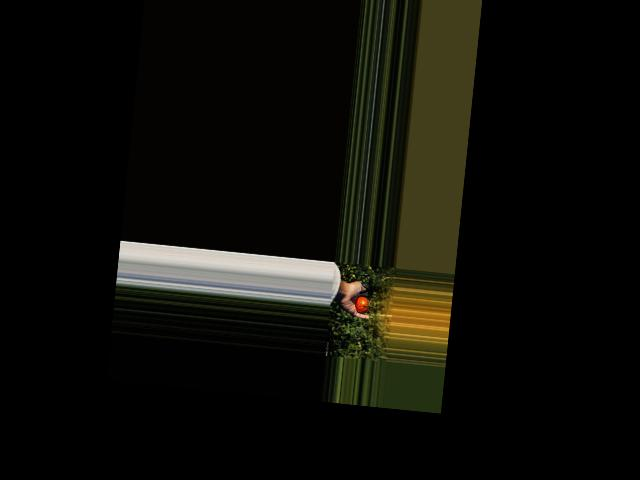tomato: (354, 296, 370, 314)
